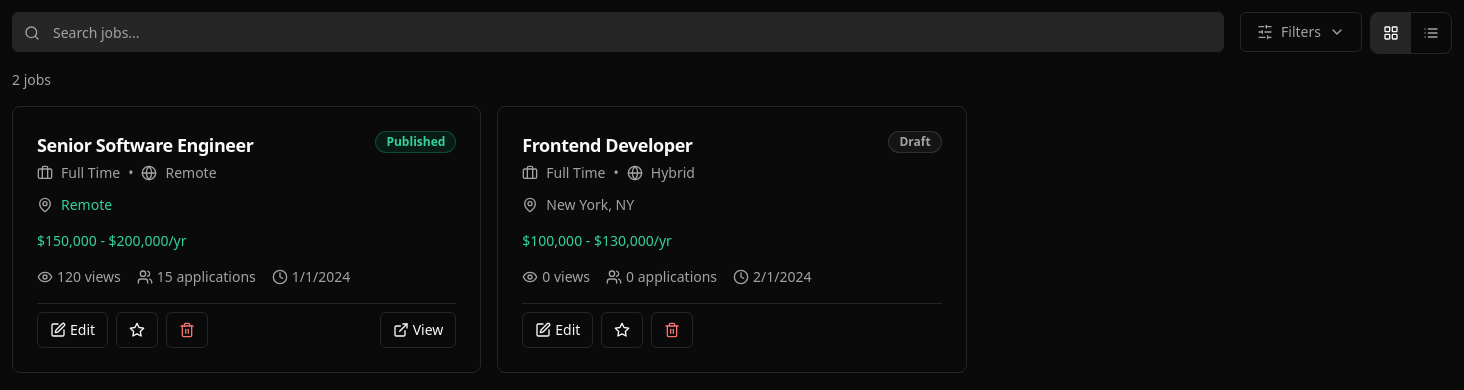
JobList › shows clear filters when no results and filters are active
This screenshot has width=1464, height=390.
Type "Nonexistent Job" into the field with placeholder "Search jobs..." at (618, 32), box [12, 12, 1224, 52]
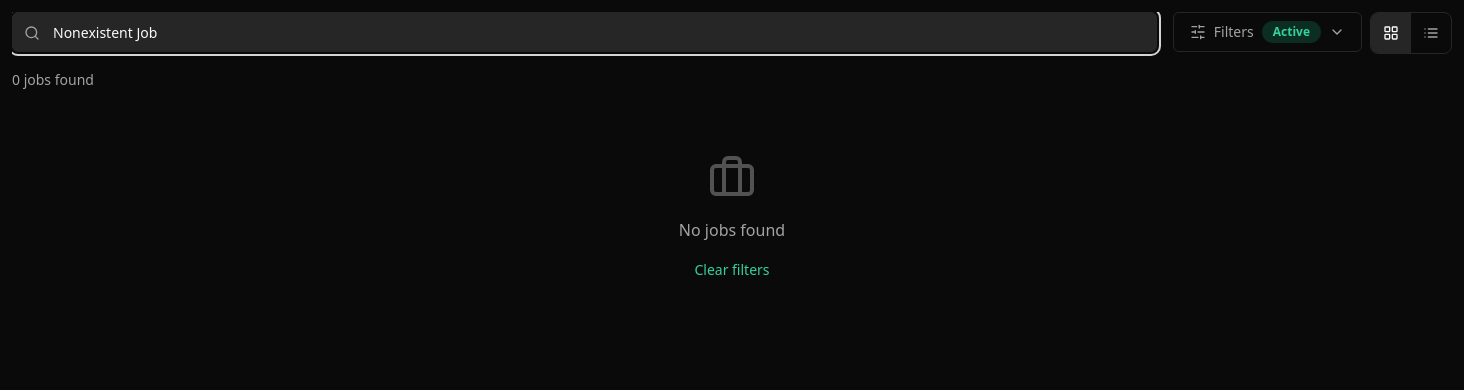
expect the text "No jobs found" is shown: met, box [679, 219, 785, 241]
expect the button "Clear filters" is shown: met, box [678, 250, 786, 290]
